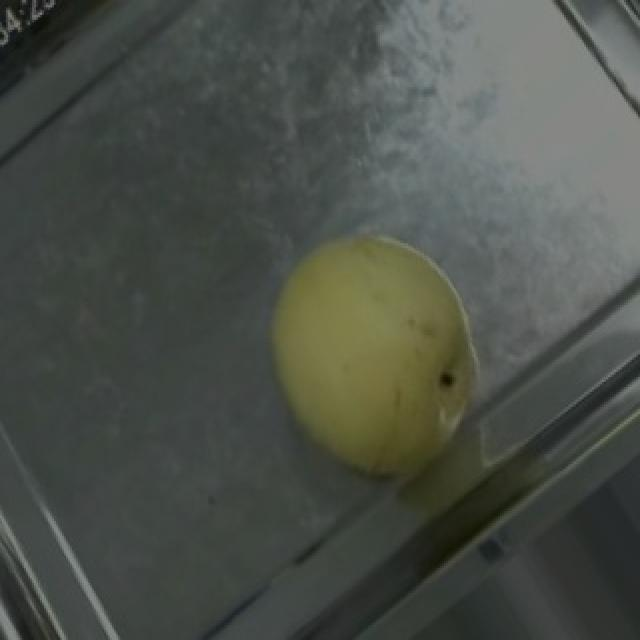Fruit: (222, 191, 526, 518)
